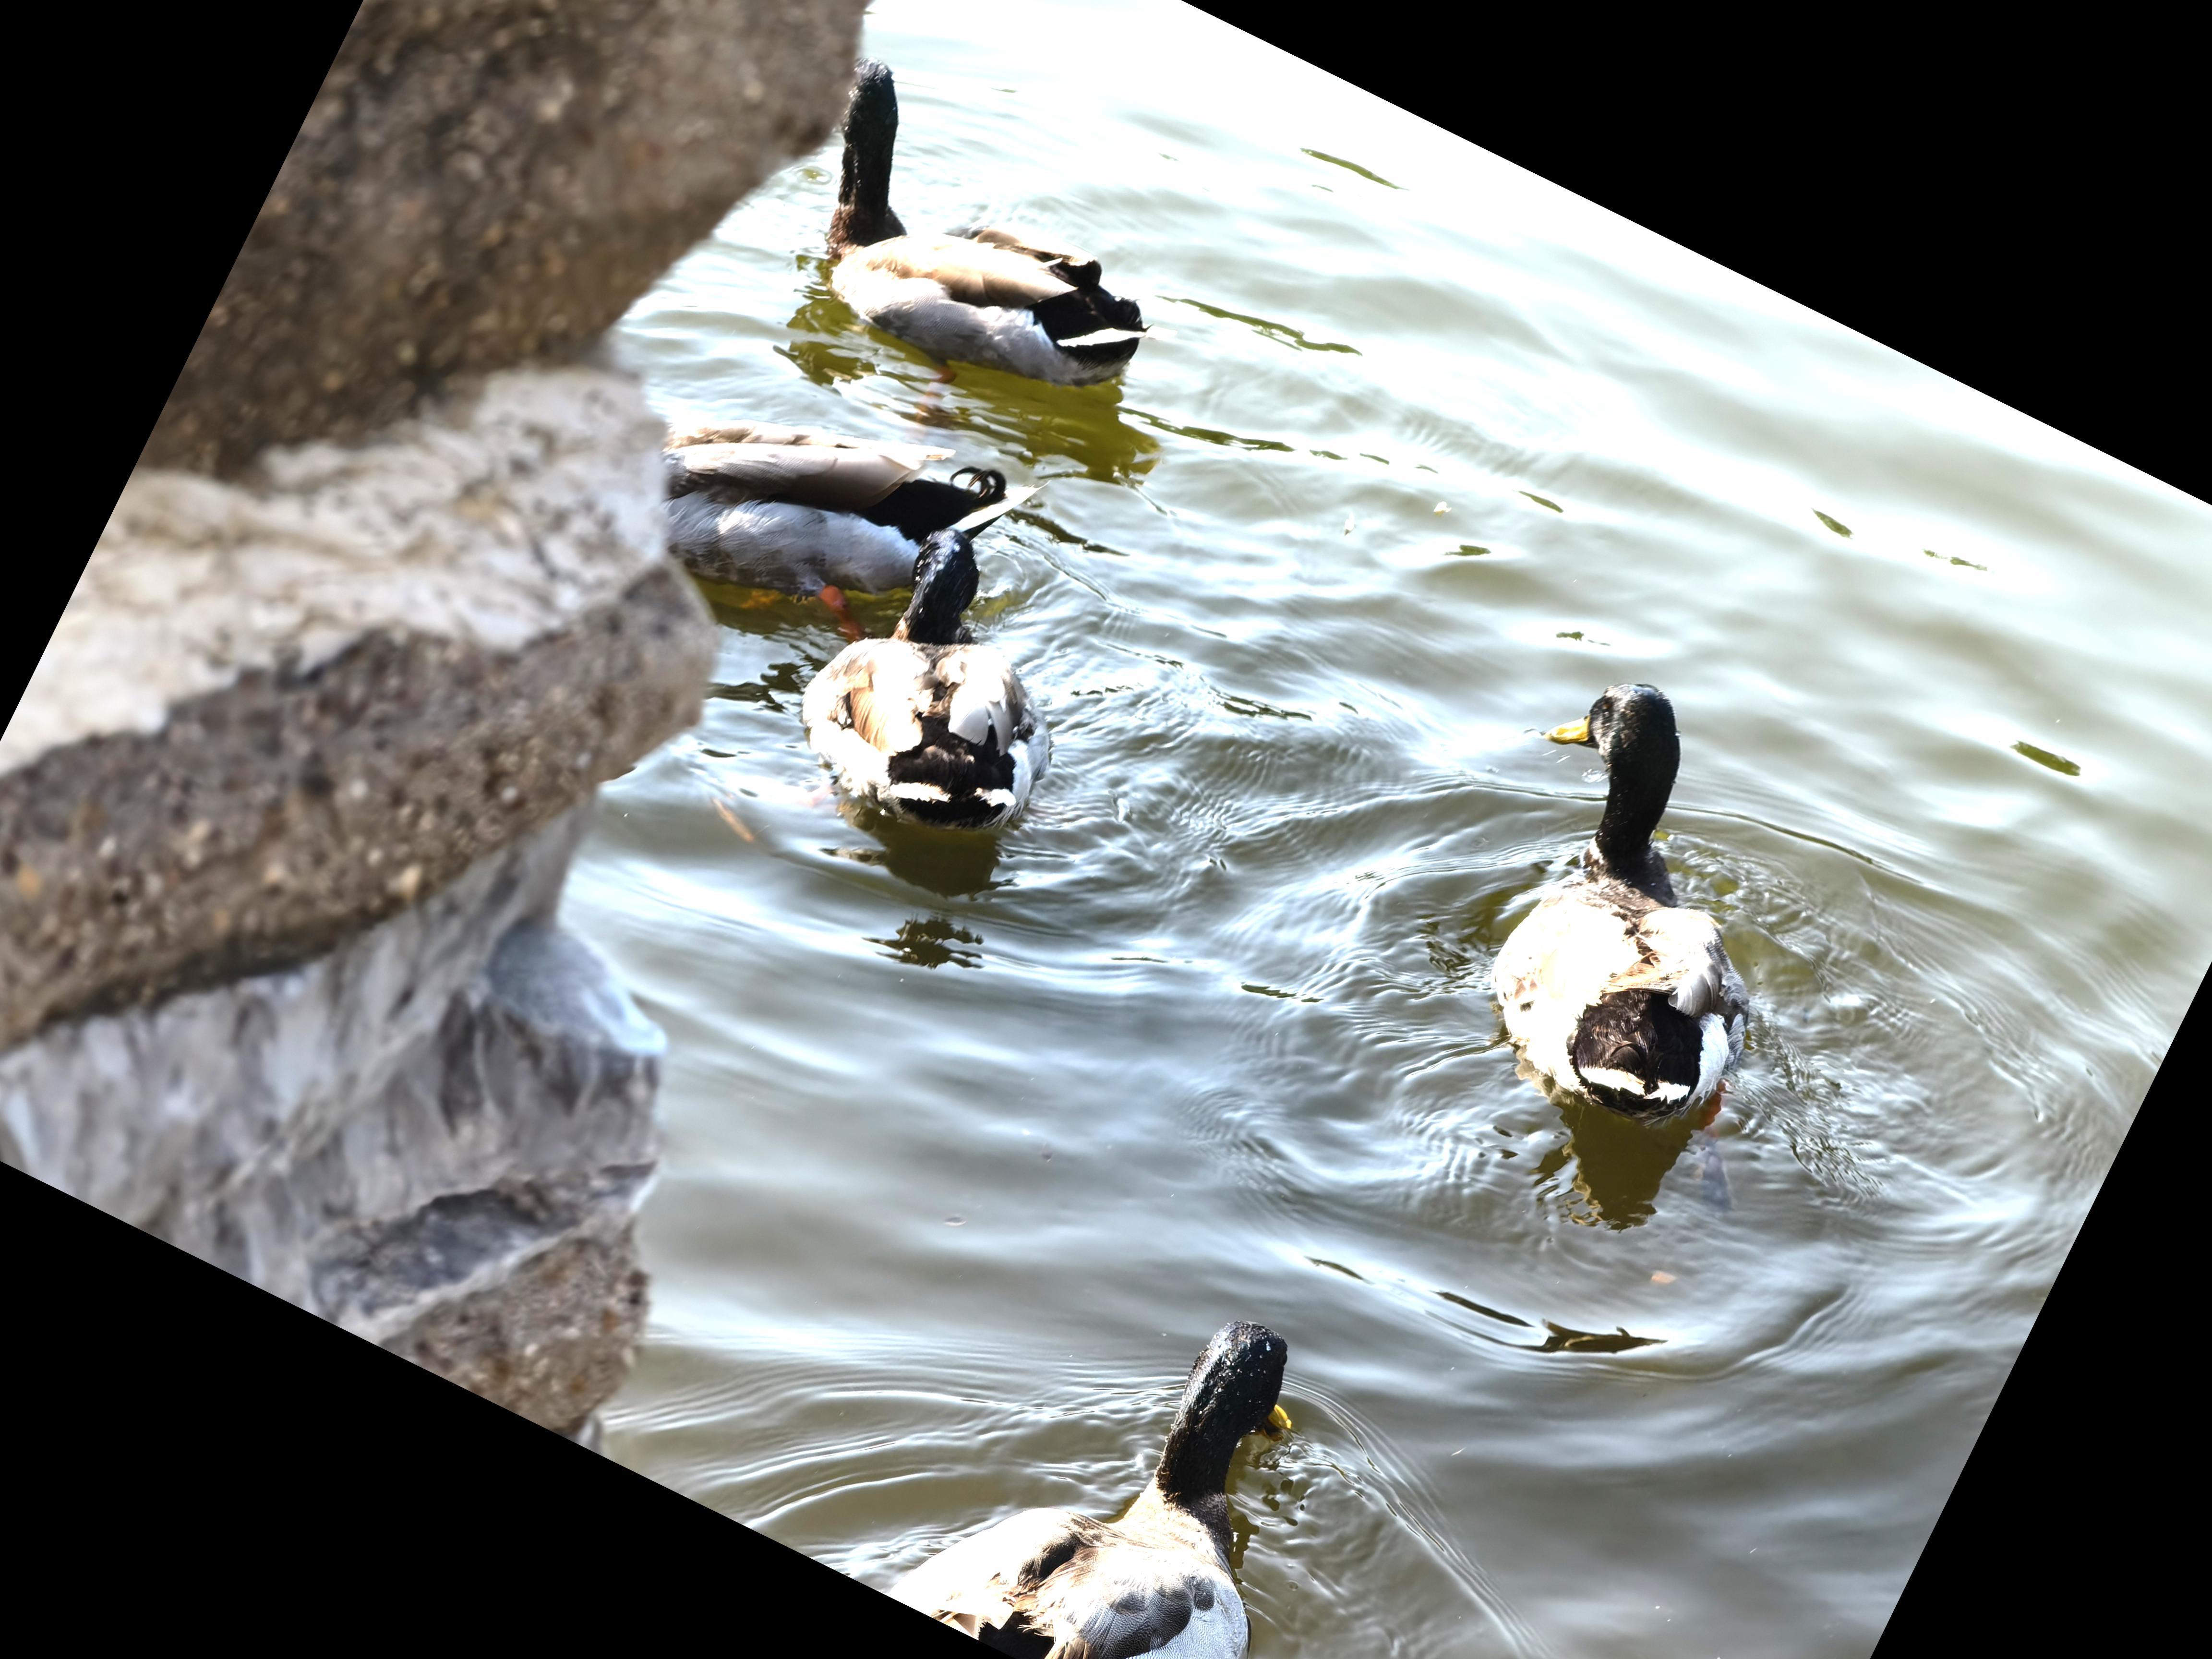duck: (1376, 636, 1907, 1211), (878, 1206, 1411, 1659), (745, 44, 1244, 448), (615, 307, 1061, 681), (786, 498, 1136, 873)
